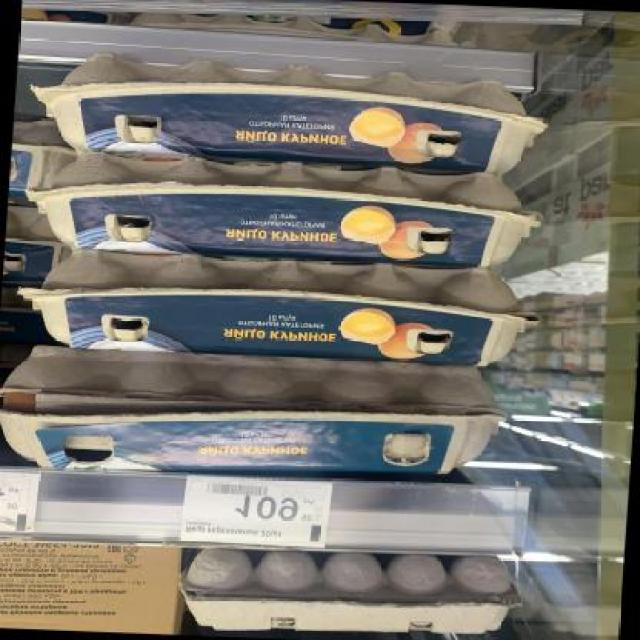Egg: (0, 346, 512, 485), (33, 57, 550, 178), (27, 154, 541, 272), (20, 252, 538, 368), (7, 117, 62, 206)
